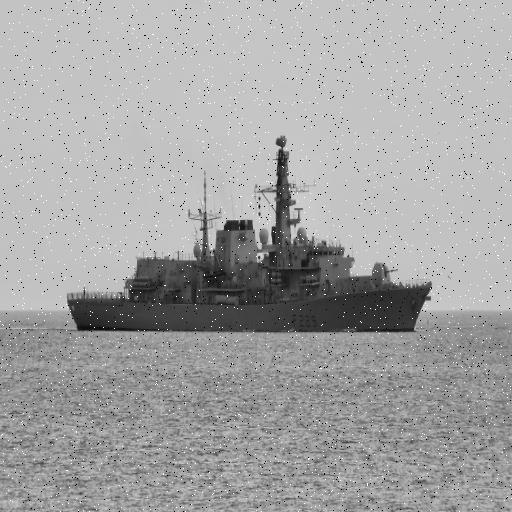Fragata: (66, 129, 437, 335)
